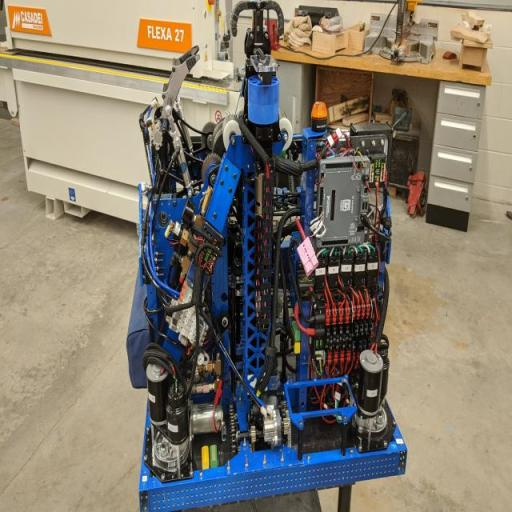robot: (126, 12, 409, 508)
